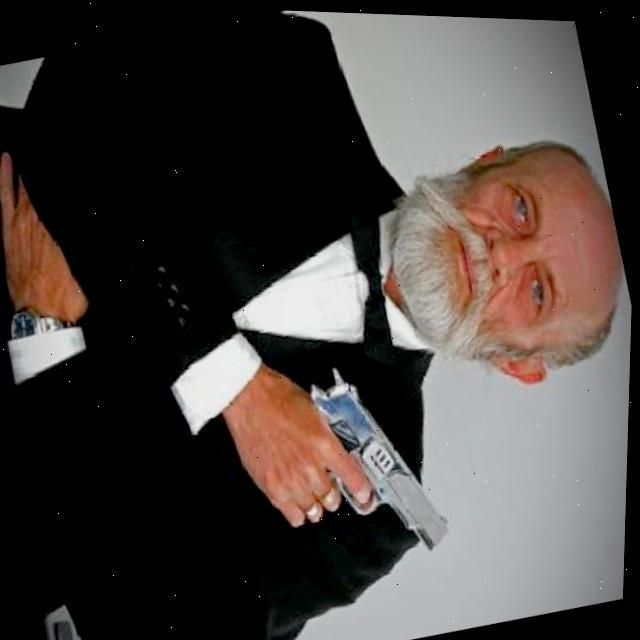gun: (297, 343, 462, 573)
